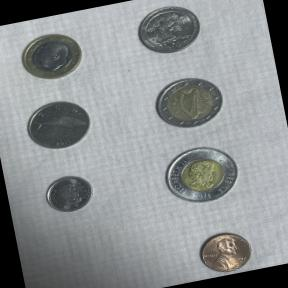1 Euro-B: (14, 24, 88, 86)
2 Euro-B: (146, 66, 230, 137)
Canada-10cent-B: (37, 168, 99, 219)
Canada-2Dollar-B: (154, 137, 248, 212)
Croatia-2Kune-B: (18, 91, 97, 158)
US-1cent-B: (188, 222, 258, 280)
US-25cent-B: (129, 0, 207, 61)
